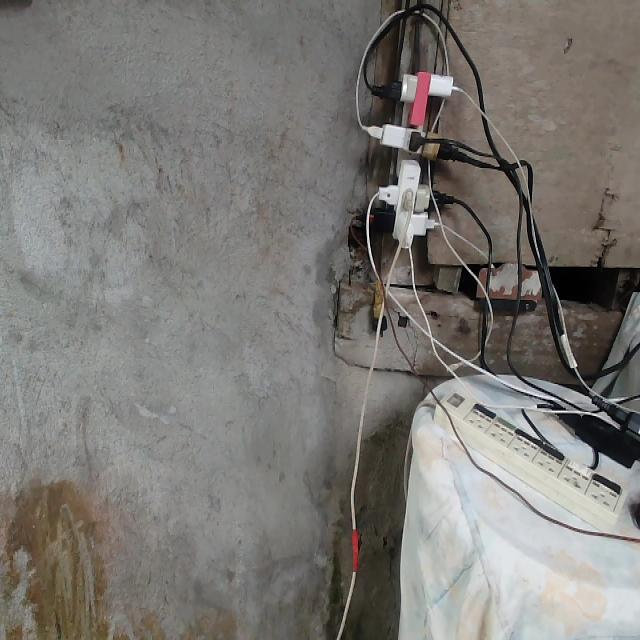-: (369, 65, 456, 247)
